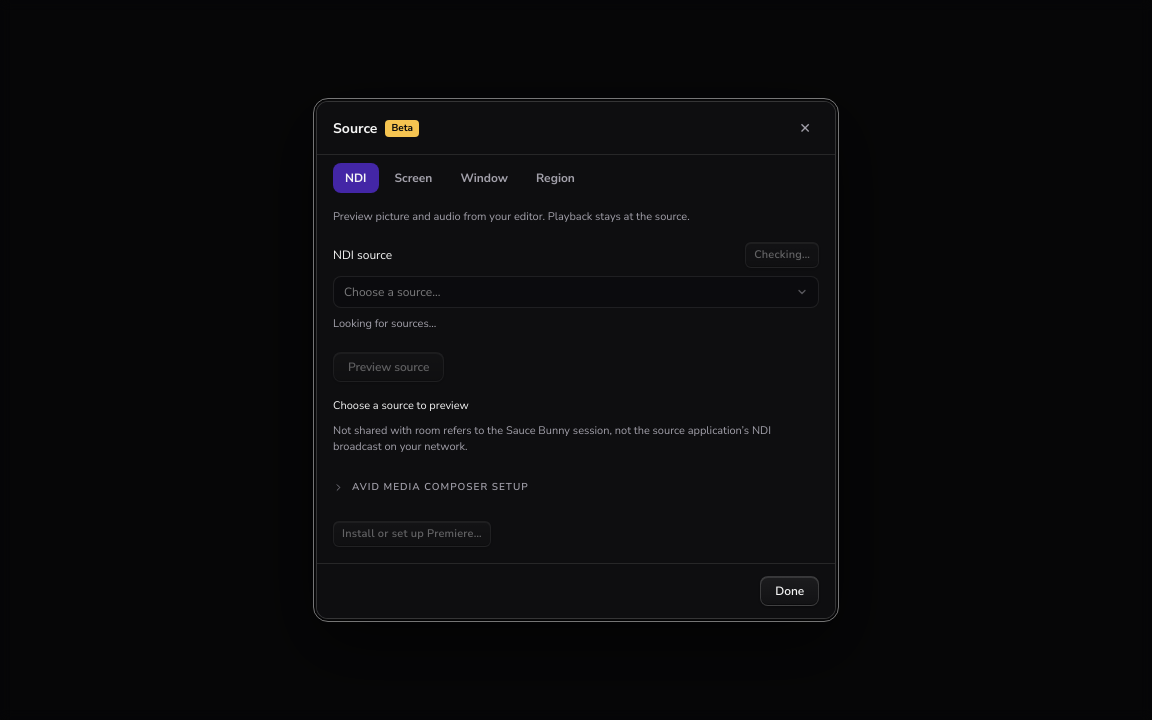
Test: one private source chooser › keeps the Window Preview and close actions outside the scrolling fields
Click the tab "Window": (484, 178) [448, 163, 520, 193]
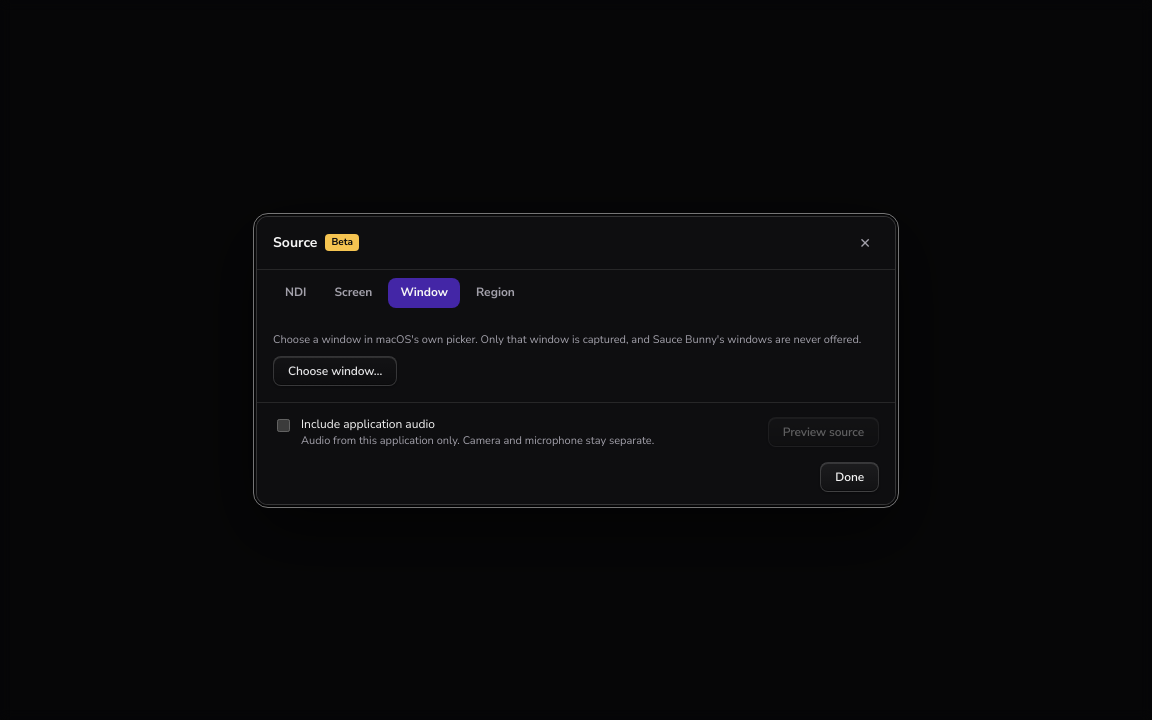
Click the button "Choose window…": (335, 371) [273, 356, 397, 386]
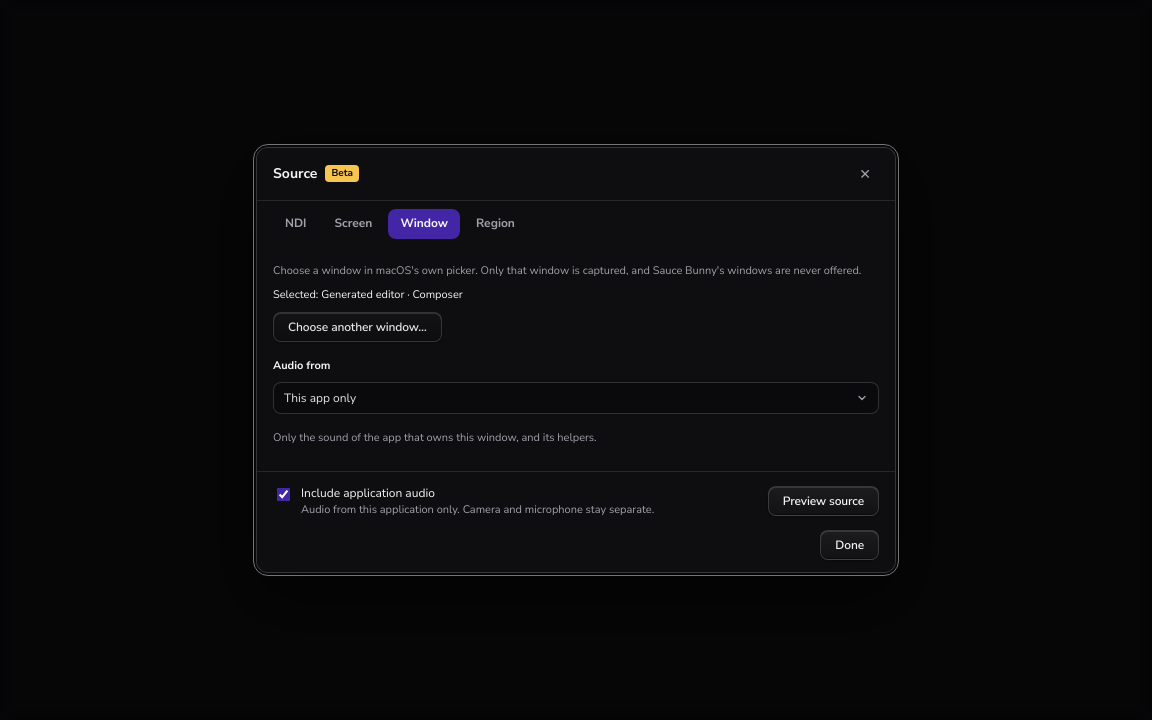
Expected: the footer is shown, [257, 471, 895, 572]
Expected: the number of buttons "Preview source" is 1, [768, 486, 879, 516]
Expected: the message named "Selected window" is shown, [273, 287, 463, 302]
